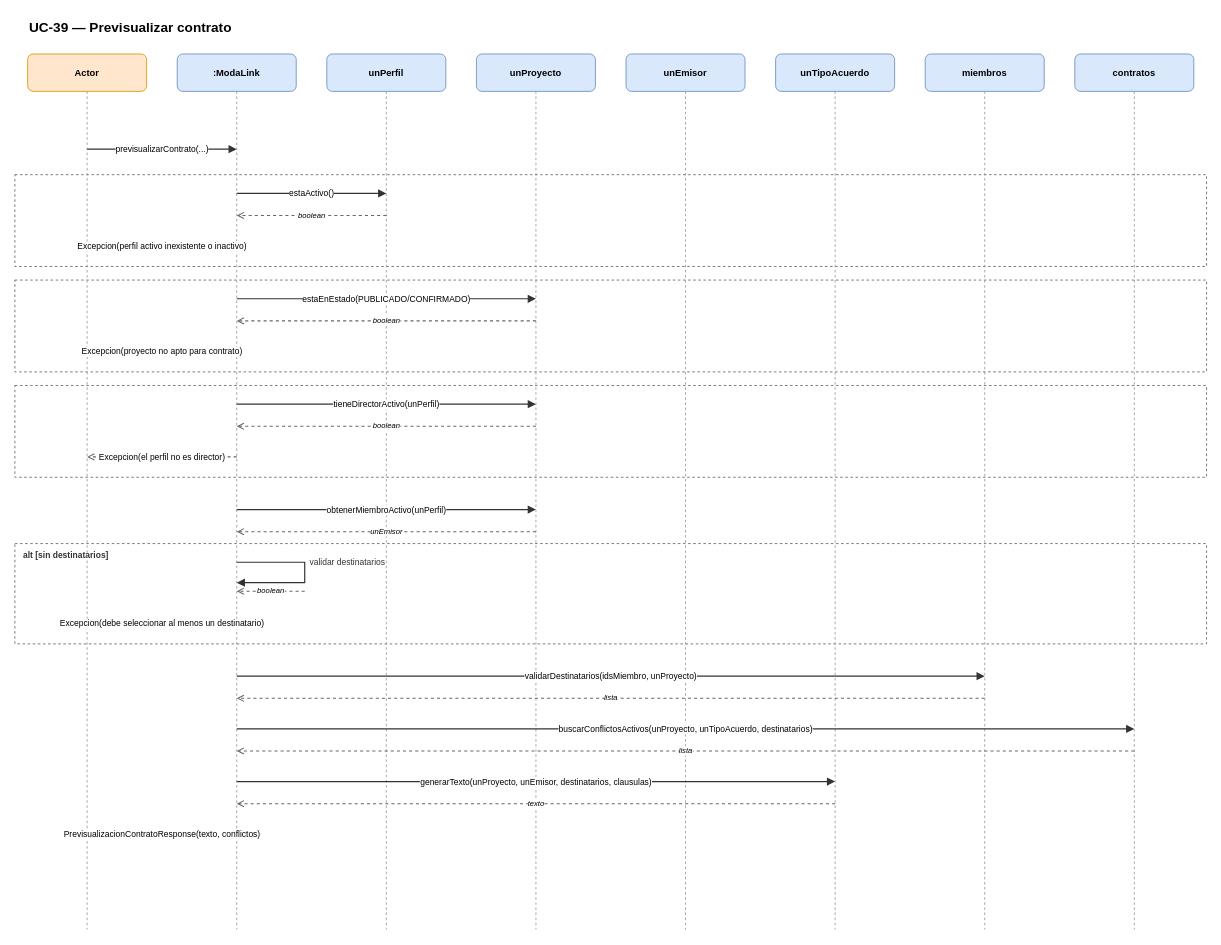
This 1221x945 diagram has some shape labels left out. The centre of each missing label's shape, as x and y in pixels:
alt [!esDirector]: point (610, 431)
alt [!perfilActivo]: point (610, 220)
alt [!proyectoApto]: point (610, 325)
